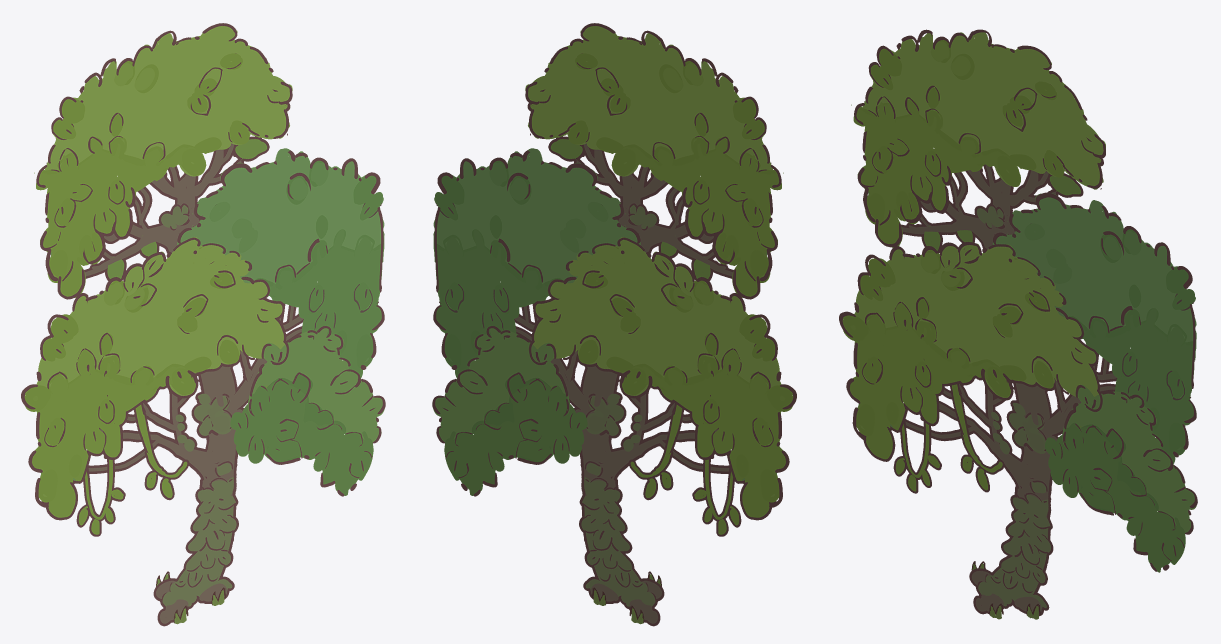
The model's file is Mesh_Home_RF_BigTree.fbx.
3 renders of one model, left to right at view 1: azimuth 30°, elevation 25°; view 2: azimuth 150°, elevation 25°; view 3: azimuth 330°, elevation 25°, orthographic.
Visible parts, largest first — view 1: Mesh_Home_RF_BigTree; view 2: Mesh_Home_RF_BigTree; view 3: Mesh_Home_RF_BigTree.
Part boxes in pixels (x1,y1,x2,y2): Mesh_Home_RF_BigTree: [21, 23, 385, 626]; Mesh_Home_RF_BigTree: [432, 23, 796, 626]; Mesh_Home_RF_BigTree: [839, 29, 1197, 619].
Size of the model in its own units: 66.77 by 100 by 0.
